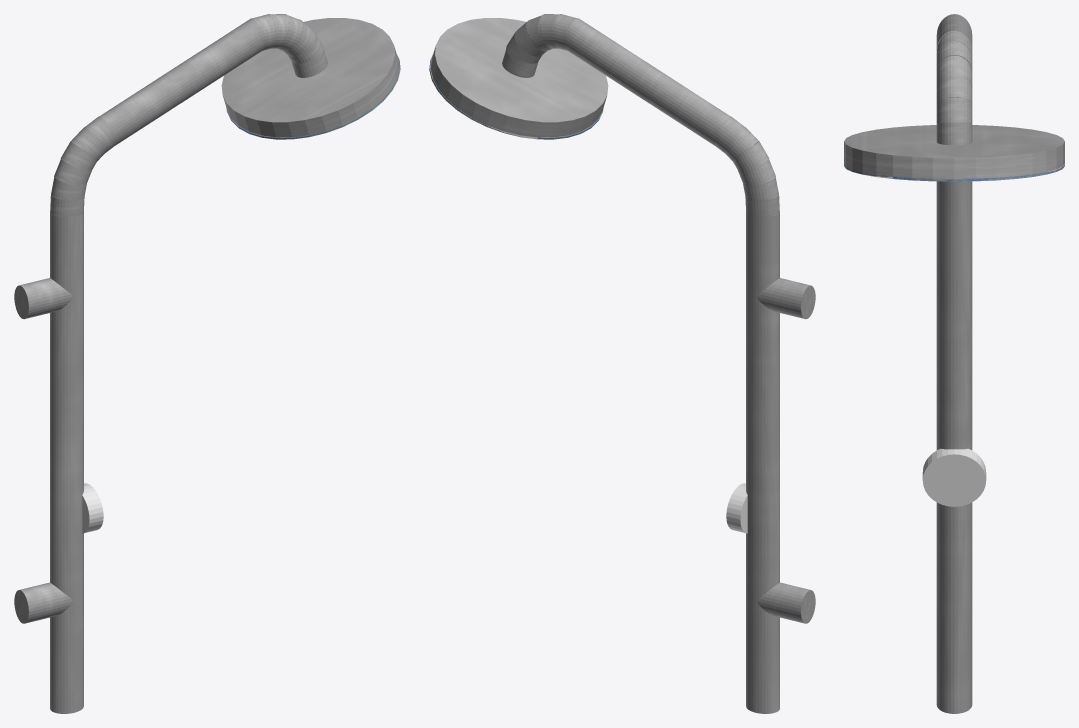
The model's file is Shower.fbx.
3 renders of one model, left to right at view 1: azimuth 30°, elevation 25°; view 2: azimuth 150°, elevation 25°; view 3: azimuth 270°, elevation 25°, orthographic. The views are drawn at different scales.
Parts seen in each view (by area): view 1: Cylinder.015, Cylinder.007, Cylinder.008, Cylinder, Cylinder.017, Cylinder.016, Cylinder.018, Cylinder.011, Cylinder.012, Cylinder.014, Cylinder.010; view 2: Cylinder.015, Cylinder.007, Cylinder.008, Cylinder, Cylinder.017, Cylinder.016, Cylinder.018, Cylinder.011, Cylinder.012, Cylinder.014, Cylinder.010; view 3: Cylinder.015, Cylinder.007, Cylinder.018, Cylinder.005, Cylinder.004, Cylinder.006, Cylinder.019, Cylinder.003, Cylinder.002, Cylinder.001, Cylinder.008.
Part boxes in pixels (x1,y1,x2,y2): Cylinder.015: [50, 212, 83, 713]; Cylinder.007: [221, 18, 399, 137]; Cylinder.008: [100, 61, 200, 145]; Cylinder: [179, 18, 266, 102]; Cylinder.017: [14, 582, 72, 623]; Cylinder.016: [14, 278, 72, 319]; Cylinder.018: [82, 483, 103, 533]; Cylinder.011: [60, 141, 96, 171]; Cylinder.012: [54, 159, 92, 186]; Cylinder.014: [50, 195, 84, 217]; Cylinder.010: [71, 127, 104, 161]; Cylinder.015: [746, 212, 779, 713]; Cylinder.007: [430, 18, 608, 137]; Cylinder.008: [629, 61, 729, 145]; Cylinder: [563, 18, 650, 102]; Cylinder.017: [757, 582, 815, 623]; Cylinder.016: [757, 278, 815, 319]; Cylinder.018: [726, 483, 747, 533]; Cylinder.011: [733, 141, 769, 171]; Cylinder.012: [737, 159, 775, 186]; Cylinder.014: [745, 195, 779, 217]; Cylinder.010: [725, 127, 758, 161]; Cylinder.015: [936, 181, 972, 713]; Cylinder.007: [844, 125, 1064, 178]; Cylinder.018: [922, 448, 986, 506]; Cylinder.005: [936, 97, 972, 123]; Cylinder.004: [936, 74, 972, 103]; Cylinder.006: [936, 122, 972, 145]; Cylinder.019: [844, 164, 1064, 181]; Cylinder.003: [936, 55, 972, 86]; Cylinder.002: [936, 41, 972, 71]; Cylinder.001: [936, 31, 972, 59]; Cylinder.008: [936, 14, 972, 43].
Size of the model in its own units: 244 by 409 by 104.
20 materials, 19 textured.
